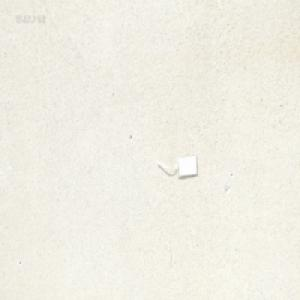LuggageTag: (156, 153, 198, 179)
